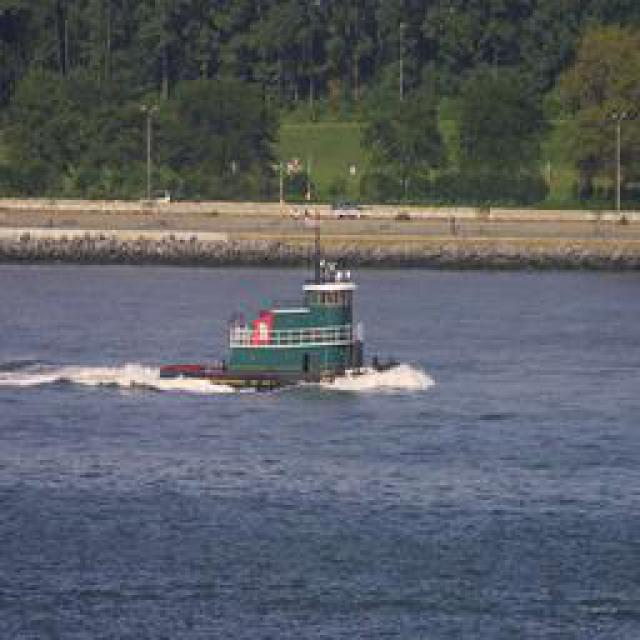Ship: (165, 272, 368, 392)
